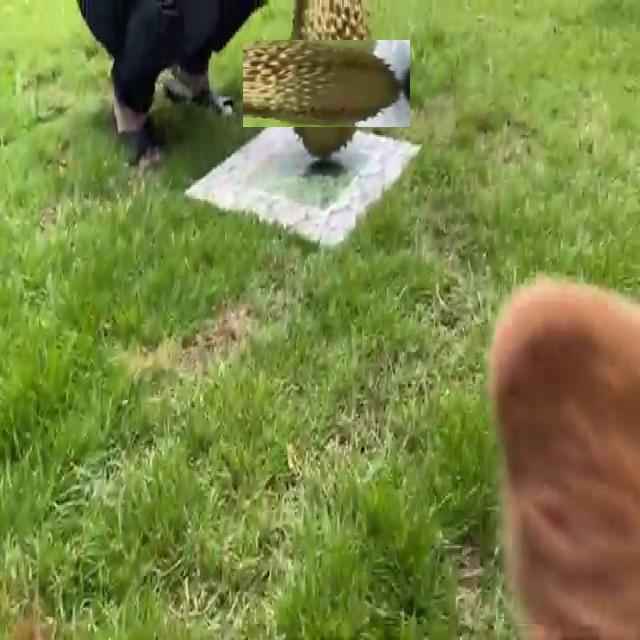durian: (263, 20, 391, 147)
